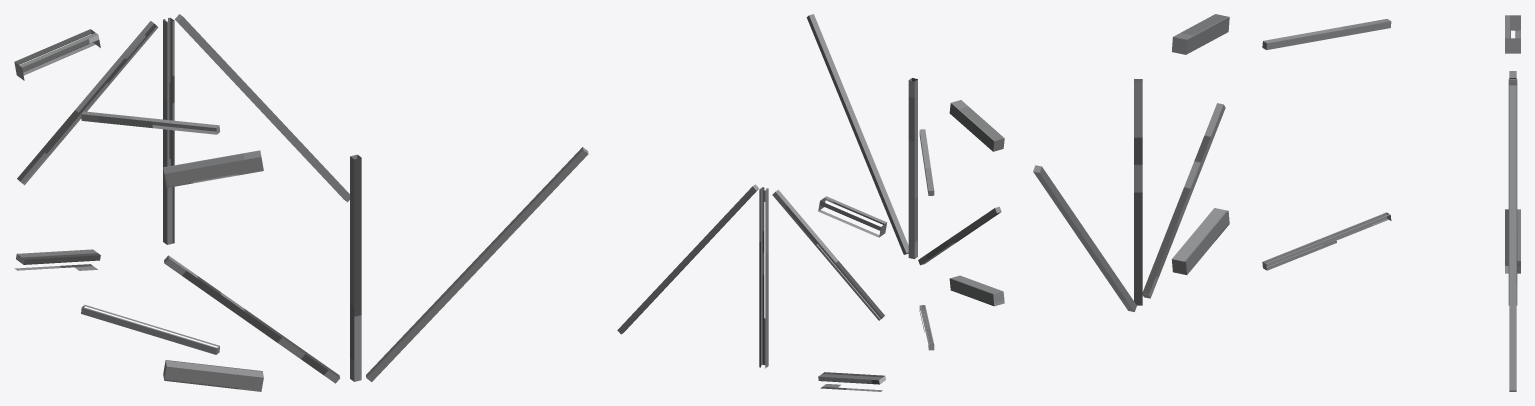
The picture shows the model from 3 angles, left to right: view 1: azimuth 30°, elevation 25°; view 2: azimuth 150°, elevation 25°; view 3: azimuth 270°, elevation 25°; orthographic projection. The views are drawn at different scales.
Bounding box in the file's own units: 1.6 × 1.07 × 2.01.
